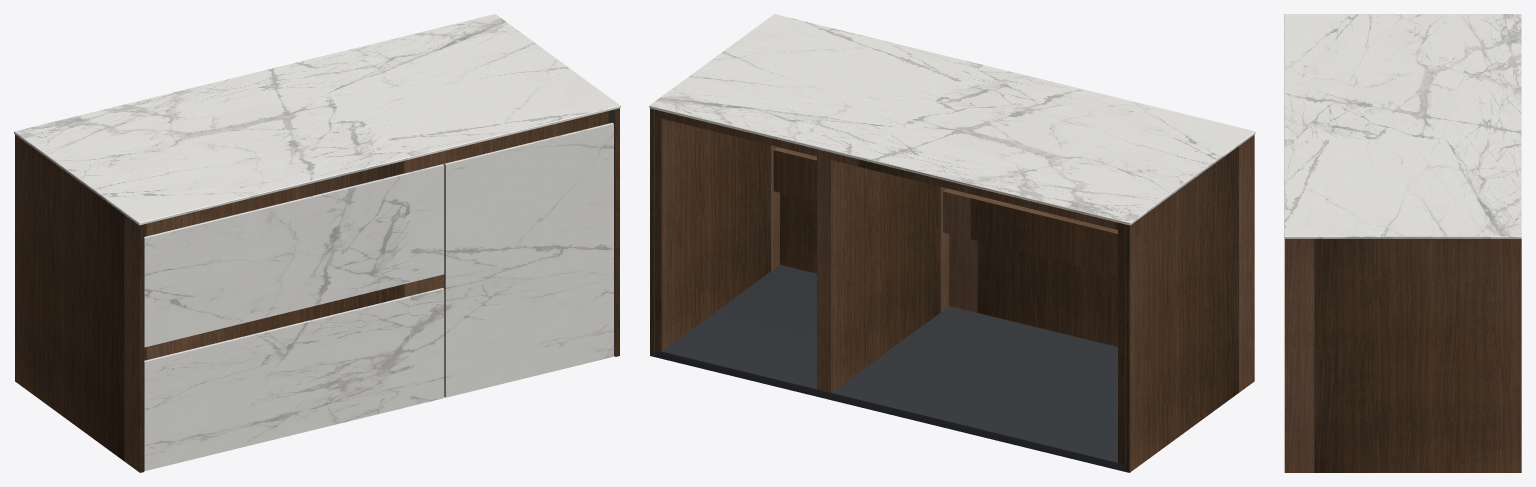
3 views of the same model, side by side, from view 1: azimuth 30°, elevation 25°; view 2: azimuth 150°, elevation 25°; view 3: azimuth 270°, elevation 25° (orthographic). The views are drawn at different scales.
Parts seen in each view (by area): view 1: EL07; view 2: EL07; view 3: EL07.
Boxes of the visible parts, bbox=[...] form: EL07: bbox=[14, 14, 620, 472]; EL07: bbox=[649, 14, 1255, 472]; EL07: bbox=[1284, 14, 1521, 472].
Bounding box in the file's own units: 1.1 × 0.546 × 0.4961.
Materials: 4 (2 with a texture image).
